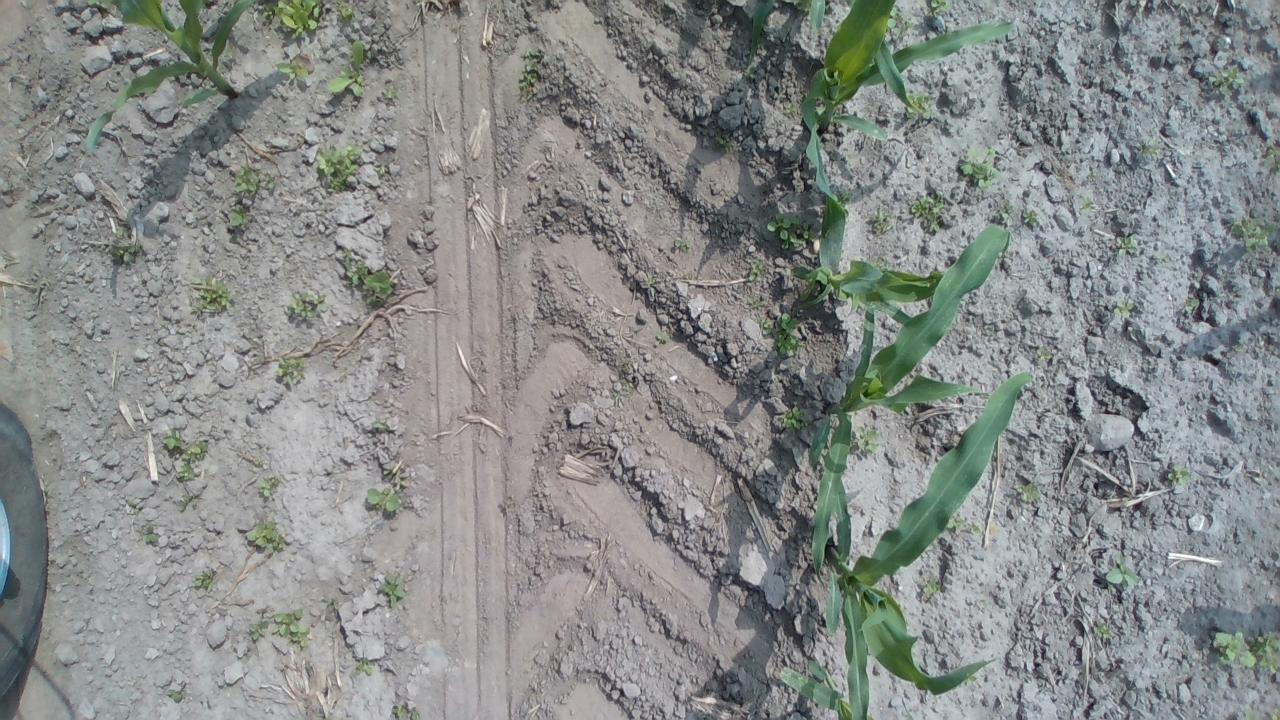Maize: (774, 367, 1039, 720), (796, 216, 1025, 578), (788, 0, 1025, 206), (780, 128, 951, 356), (68, 3, 268, 172)
Weeds: (310, 142, 387, 200), (154, 427, 208, 494), (328, 42, 378, 102), (340, 255, 398, 304), (272, 1, 336, 40), (228, 160, 284, 202), (1226, 212, 1273, 262), (762, 304, 806, 355), (1208, 626, 1254, 674), (186, 278, 241, 318), (762, 213, 820, 250), (243, 524, 300, 560), (1247, 624, 1280, 682), (374, 566, 416, 611), (1098, 551, 1146, 590), (285, 284, 329, 326), (362, 480, 413, 516), (956, 142, 996, 187), (906, 194, 948, 234), (271, 606, 312, 646), (514, 44, 544, 98), (270, 351, 312, 388), (1002, 476, 1040, 509), (182, 566, 228, 593), (1210, 62, 1242, 100), (776, 406, 814, 438), (385, 693, 433, 718), (220, 202, 256, 235), (106, 234, 140, 267), (850, 422, 884, 455), (276, 61, 314, 90), (1130, 134, 1166, 164), (1162, 458, 1192, 494), (903, 90, 935, 123), (249, 470, 287, 497), (350, 646, 380, 680), (1106, 292, 1138, 322), (132, 520, 166, 545), (866, 202, 896, 230), (740, 254, 768, 284), (916, 570, 942, 601), (994, 198, 1020, 228), (711, 128, 738, 154), (1116, 233, 1146, 256), (1092, 615, 1118, 641), (1024, 204, 1044, 235), (1236, 706, 1280, 720), (780, 98, 804, 121), (639, 274, 660, 300), (1181, 286, 1196, 322), (654, 328, 677, 350), (671, 234, 694, 255), (246, 622, 266, 646), (163, 685, 188, 703), (1036, 342, 1056, 364), (364, 418, 390, 434), (1228, 341, 1246, 357), (386, 83, 400, 103), (1079, 199, 1095, 215)
